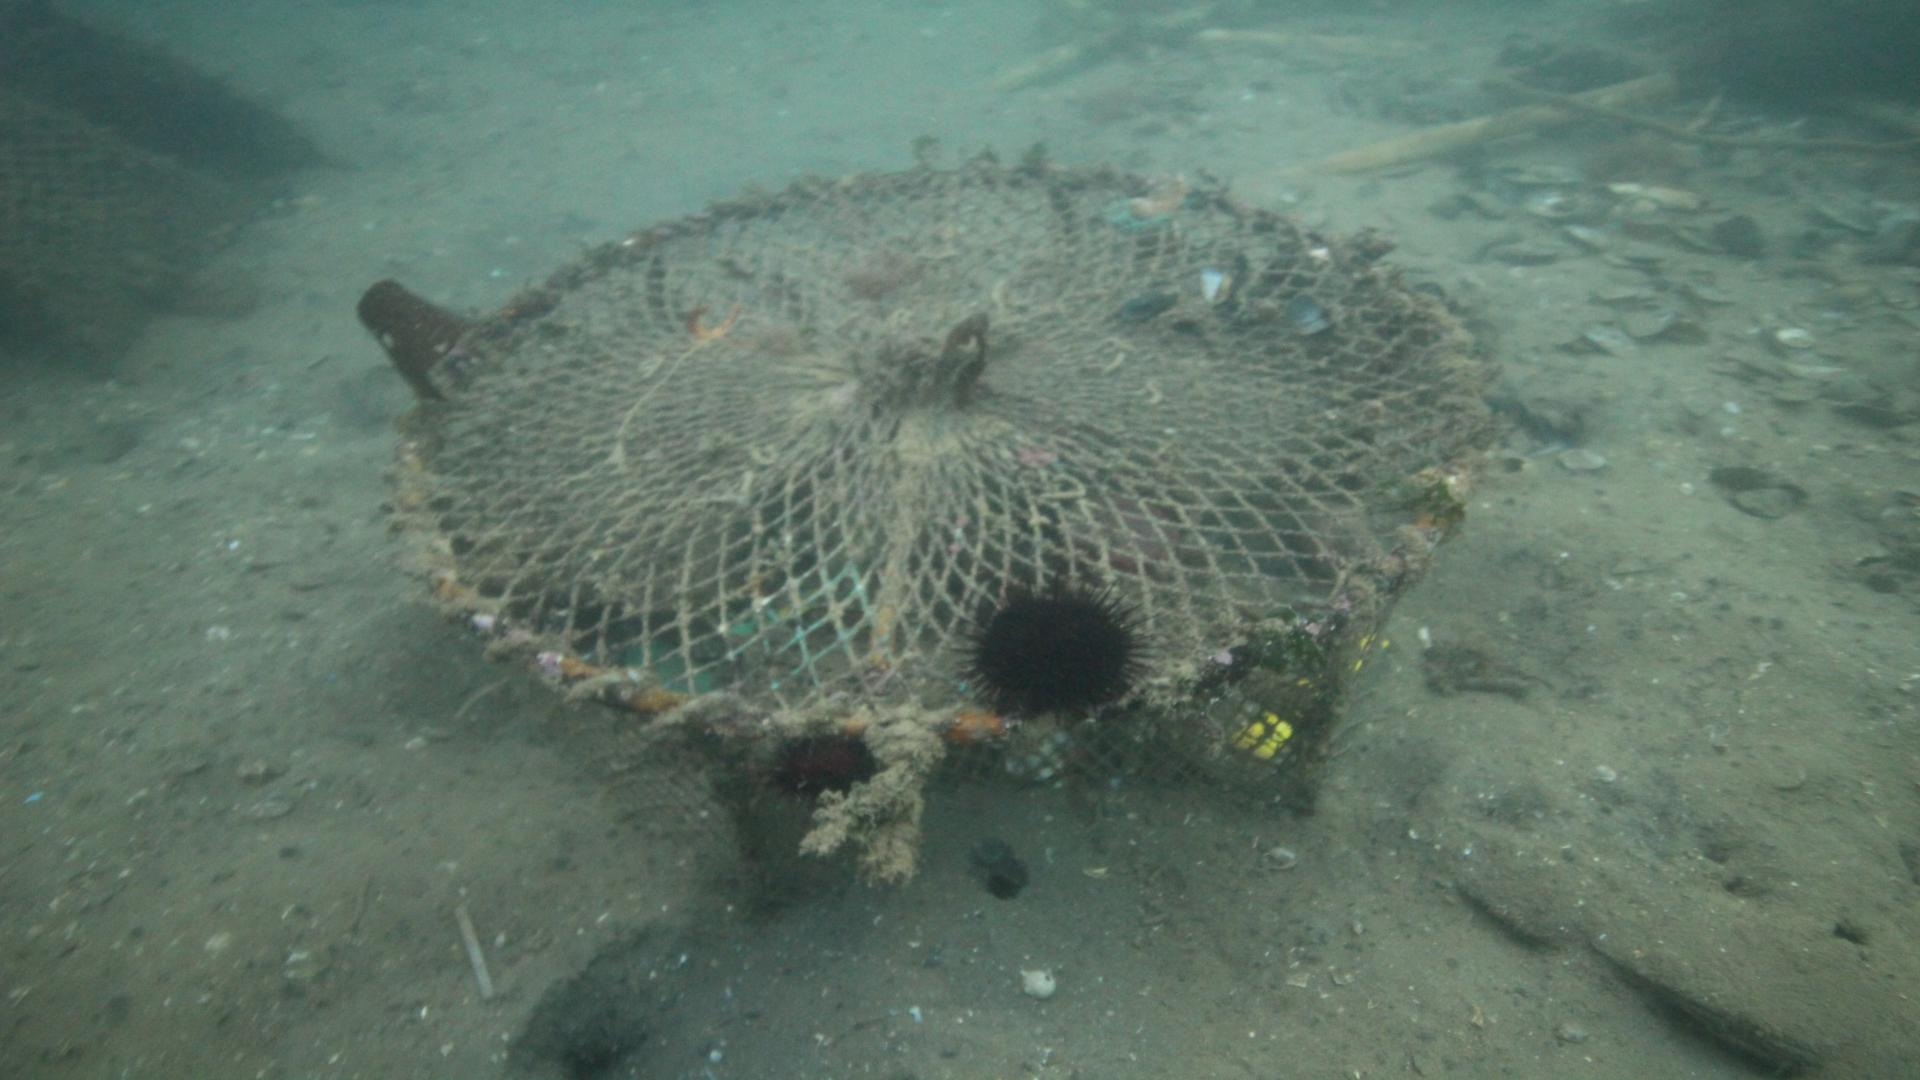circular fish trap: (386, 164, 1482, 913)
